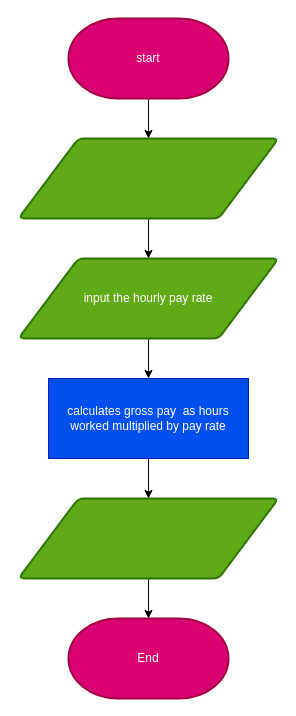
Image size: 296x716. Some labels were removed from this diagram. Each missing label, with the box of its shape:
display the gross play: (17, 497, 279, 579)
input the hours worked: (17, 137, 279, 219)
